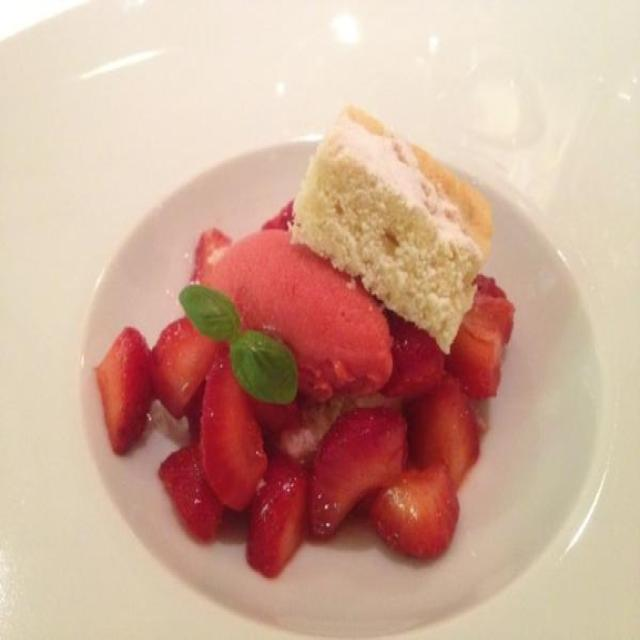蛋糕甜品: (58, 84, 591, 628)
